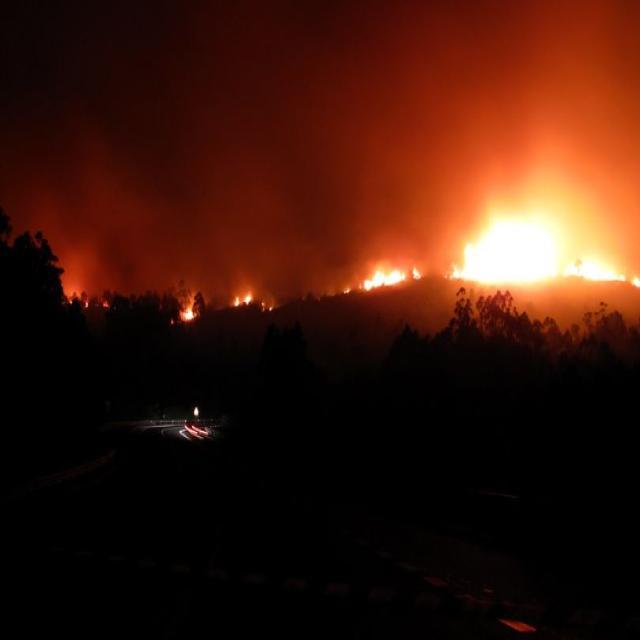Fire: (445, 182, 626, 286), (343, 266, 406, 295), (184, 305, 196, 321), (262, 300, 274, 312), (244, 291, 254, 305), (412, 266, 420, 281), (631, 276, 640, 288), (234, 296, 240, 308), (102, 300, 110, 308), (84, 300, 89, 307)
Smoke: (167, 0, 341, 288), (445, 0, 640, 182), (342, 0, 446, 261), (46, 148, 168, 290)
